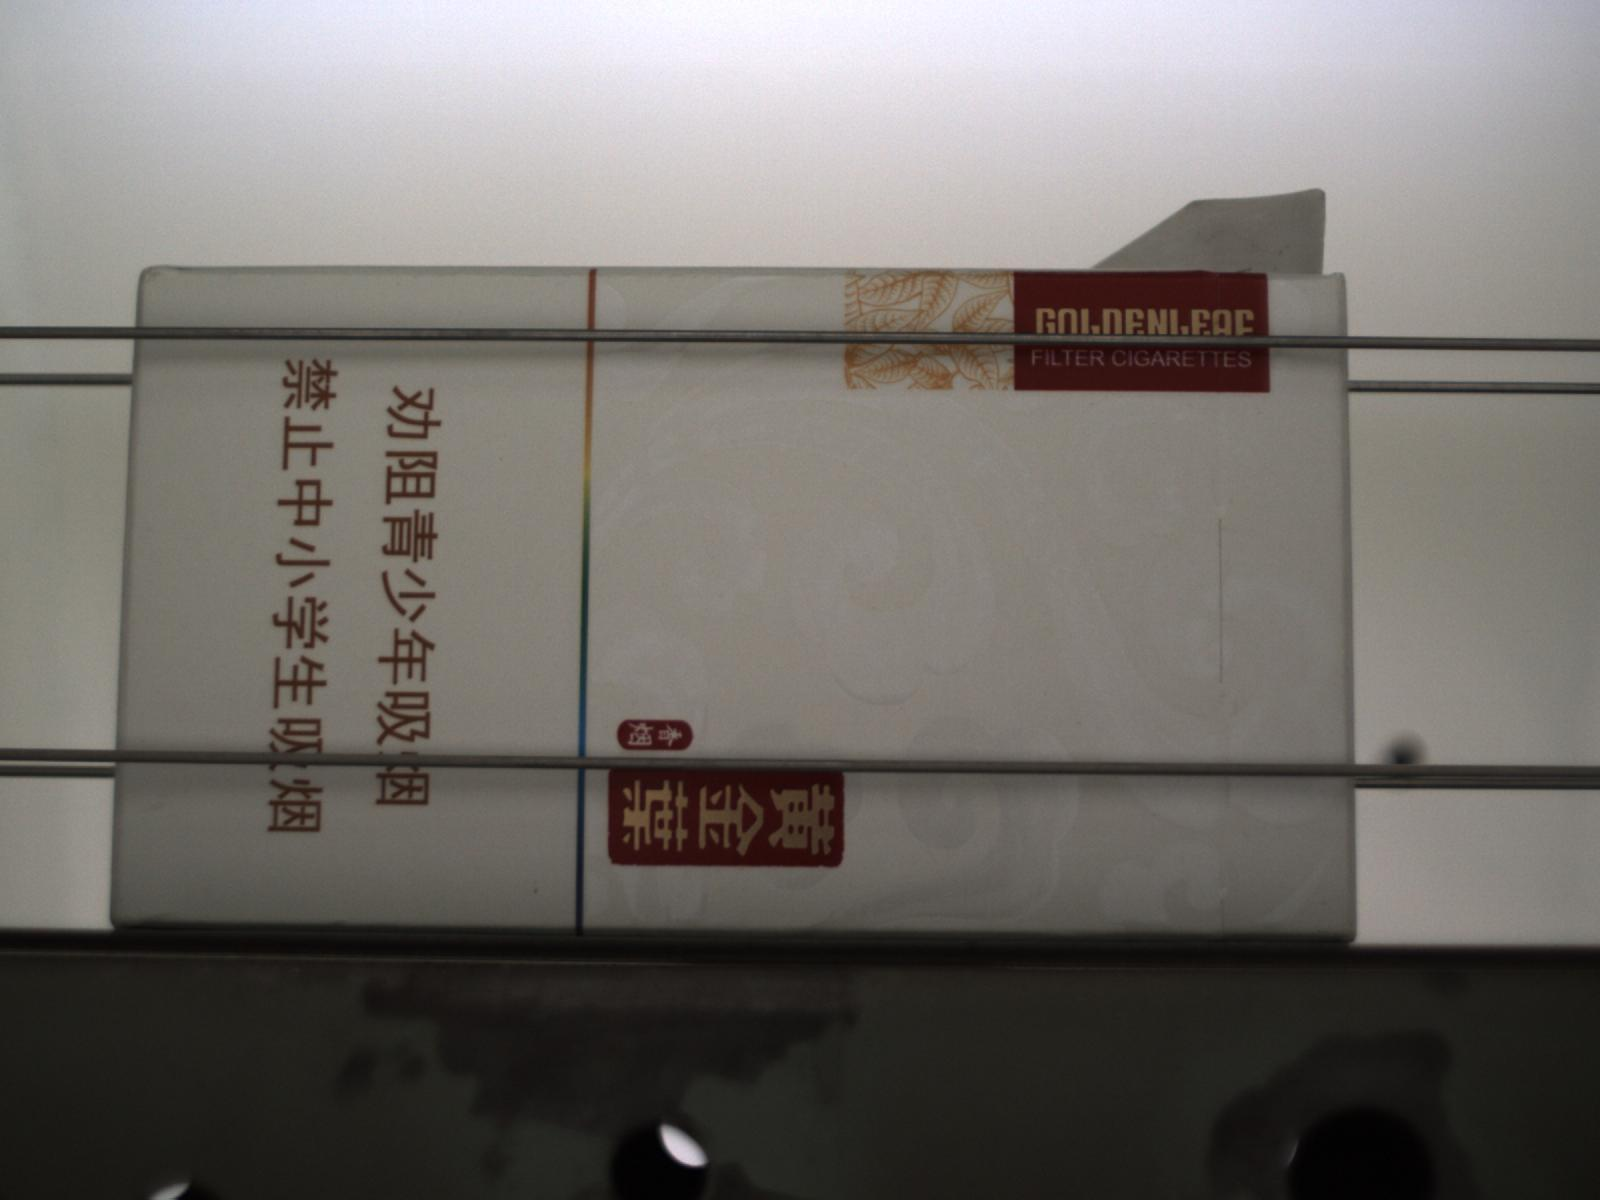dirtySpot: (531, 885, 543, 896)
headUpwarp_upper_01: (1100, 187, 1332, 275)
